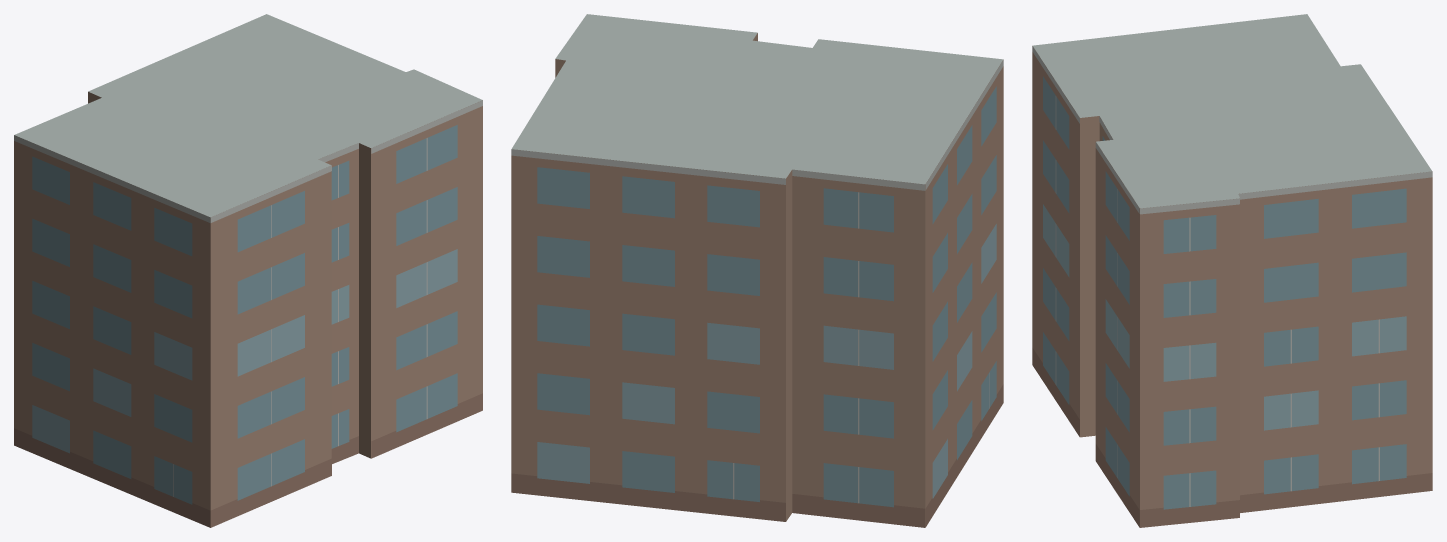
File: survey-upis-33031265.glb
3 views of the same model, side by side, from view 1: azimuth 30°, elevation 25°; view 2: azimuth 150°, elevation 25°; view 3: azimuth 270°, elevation 25° (orthographic). The views are drawn at different scales.
Visible parts, largest first — view 1: survey-upis-33031265.tmp; view 2: survey-upis-33031265.tmp; view 3: survey-upis-33031265.tmp.
Part boxes in pixels (x1,y1,x2,y2): survey-upis-33031265.tmp: [14, 14, 482, 527]; survey-upis-33031265.tmp: [511, 14, 1003, 527]; survey-upis-33031265.tmp: [1032, 14, 1432, 527].
Bounding box in the file's own units: 16.98 × 13 × 14.77.
